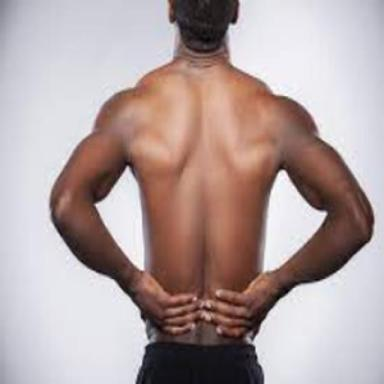normal skin: (51, 40, 373, 337)
